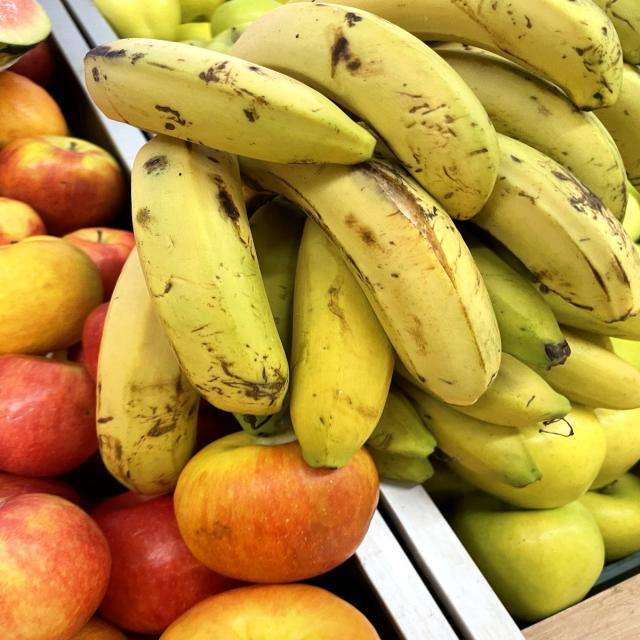banana: (123, 116, 309, 423)
